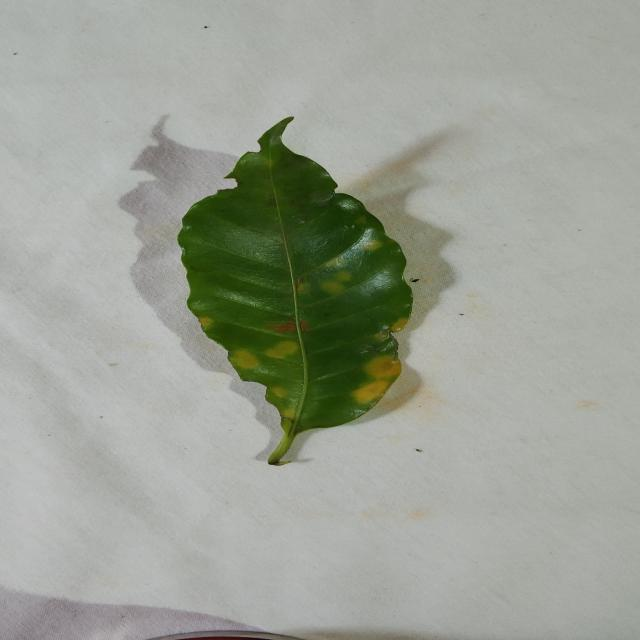Enfermedad-Roya: (176, 119, 414, 465)
